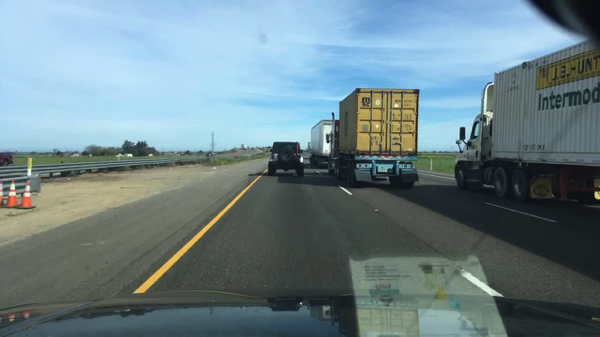car: (267, 140, 304, 178), (0, 151, 13, 169), (205, 153, 214, 157), (243, 146, 248, 148)
truck: (453, 37, 599, 205), (325, 87, 420, 191), (308, 120, 336, 167)
